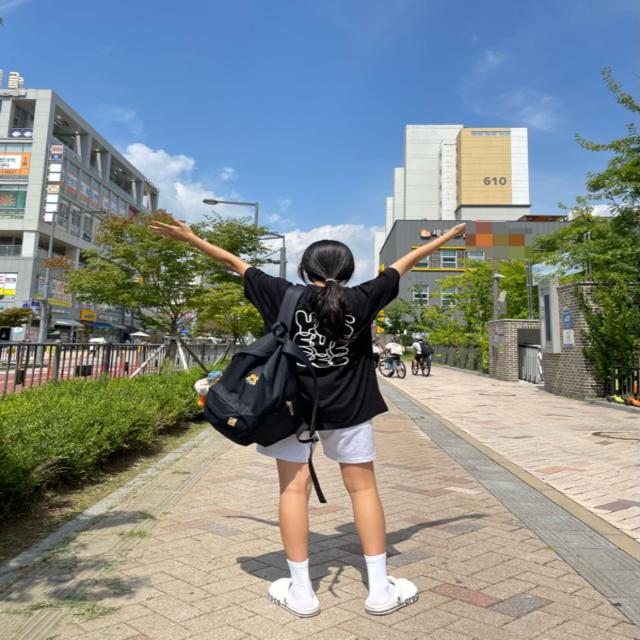shortpants: (258, 416, 374, 466)
shortsleeve: (241, 262, 406, 429)
